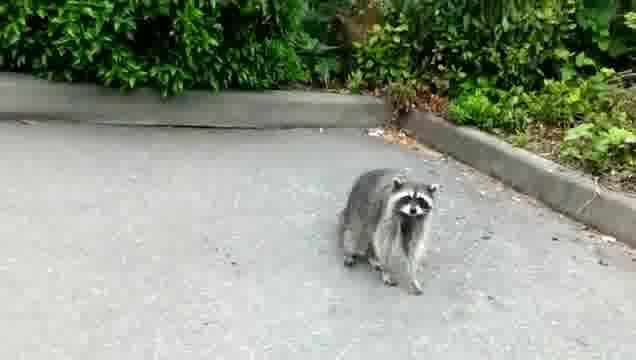raccoon: (340, 167, 441, 295)
